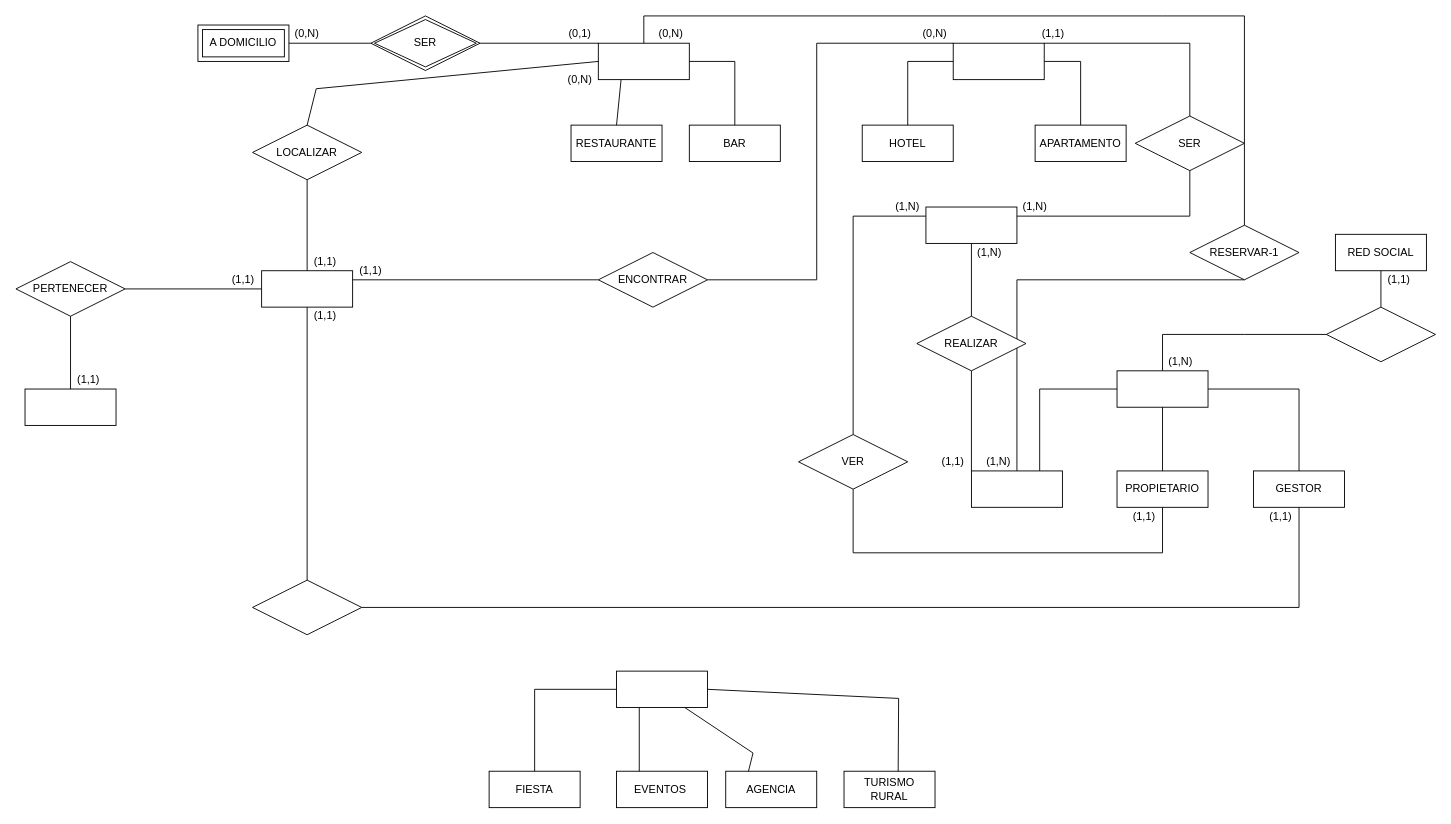
The diagram is 1451 pixels wide and 824 high, and some of its shapes have lost their labels. The shapes that lost their labels are listed below. From the top down, each one's centre as x and y in pixels, then its label:
At pixel 643 61: "HOSTELERIA".
At pixel 998 61: "ALOJAMIENTO".
At pixel 971 224: "RESERVA".
At pixel 307 288: "MUNICIPIO".
At pixel 1380 334: "REGISTRAR".
At pixel 70 406: "PROVINCIA".
At pixel 1162 388: "USUARIO".
At pixel 1016 488: "TURISTA".
At pixel 307 607: "MANDAR".
At pixel 662 689: "PUNTO INTERES".
